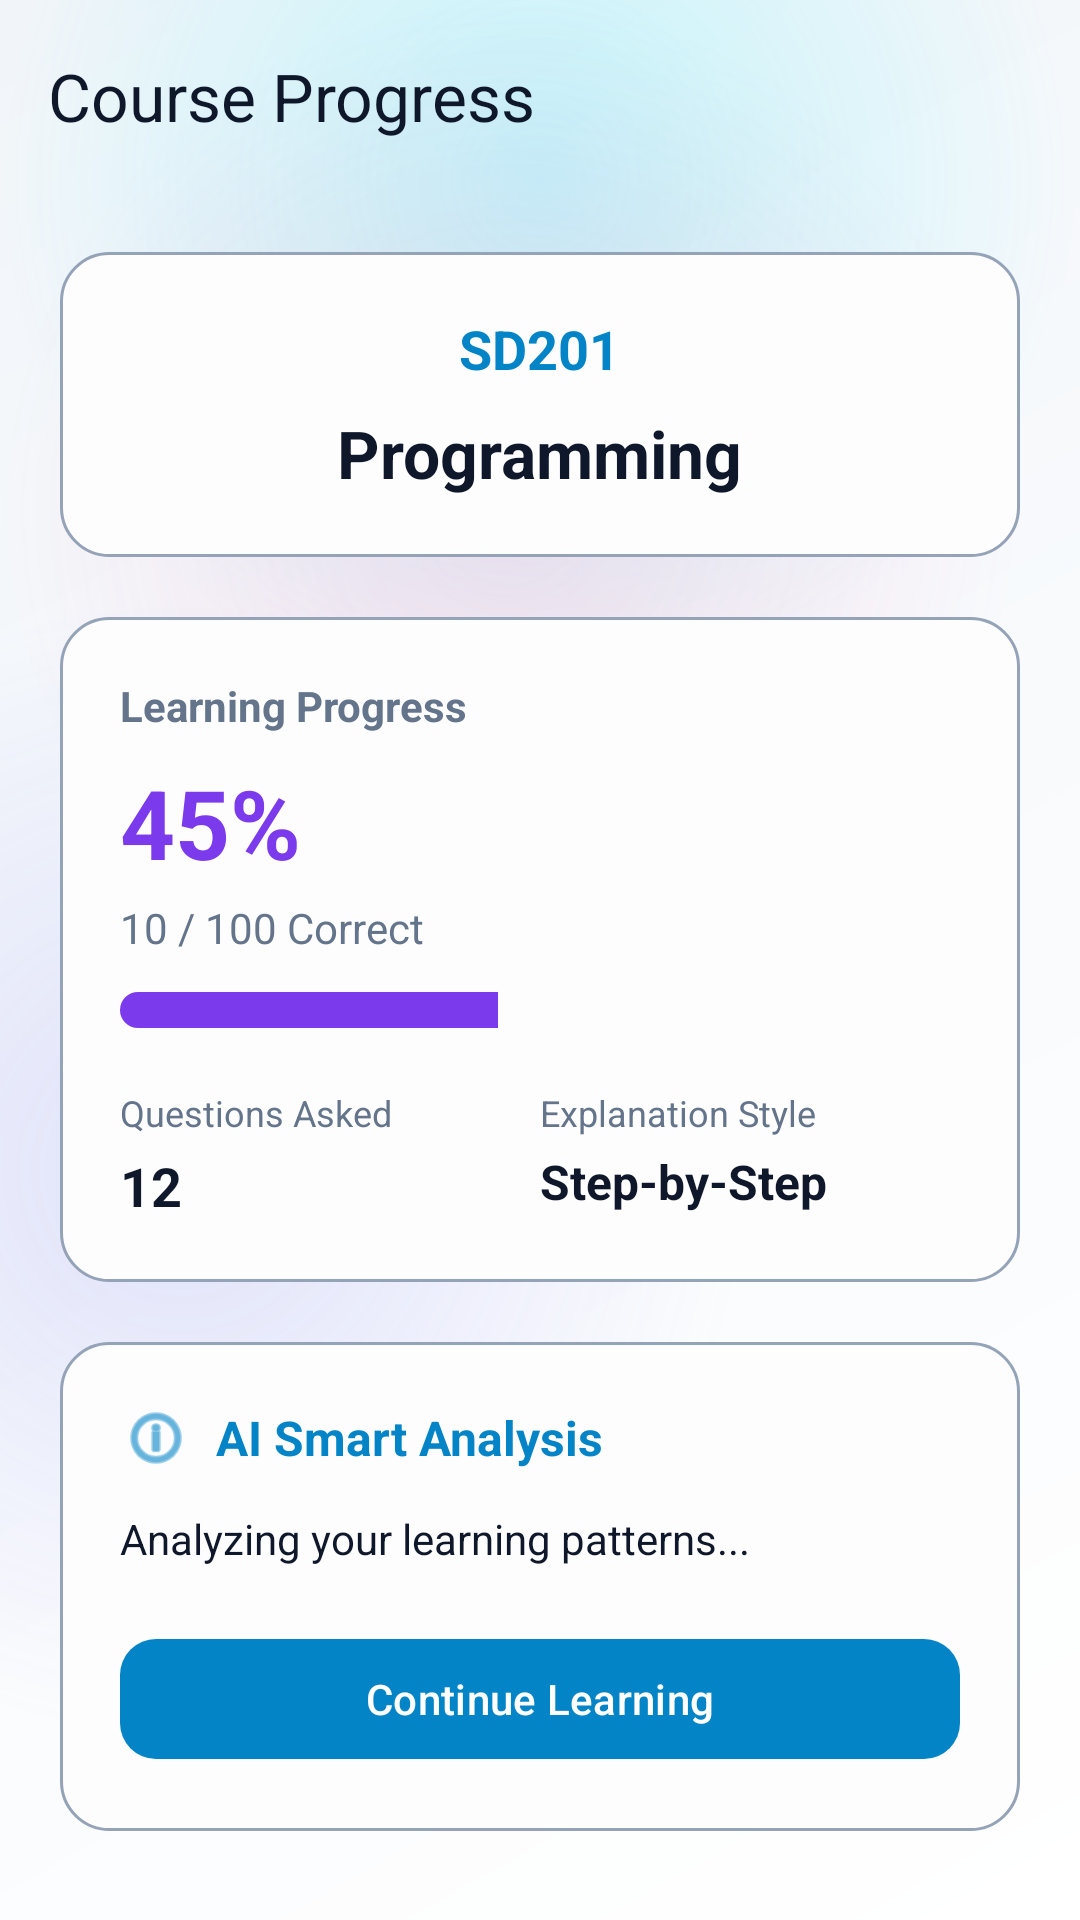

Icons on this 1080w x 1920h Android screen, each with its box as (x1, y1, x2, y2):
info details: (130, 1412, 182, 1464)
